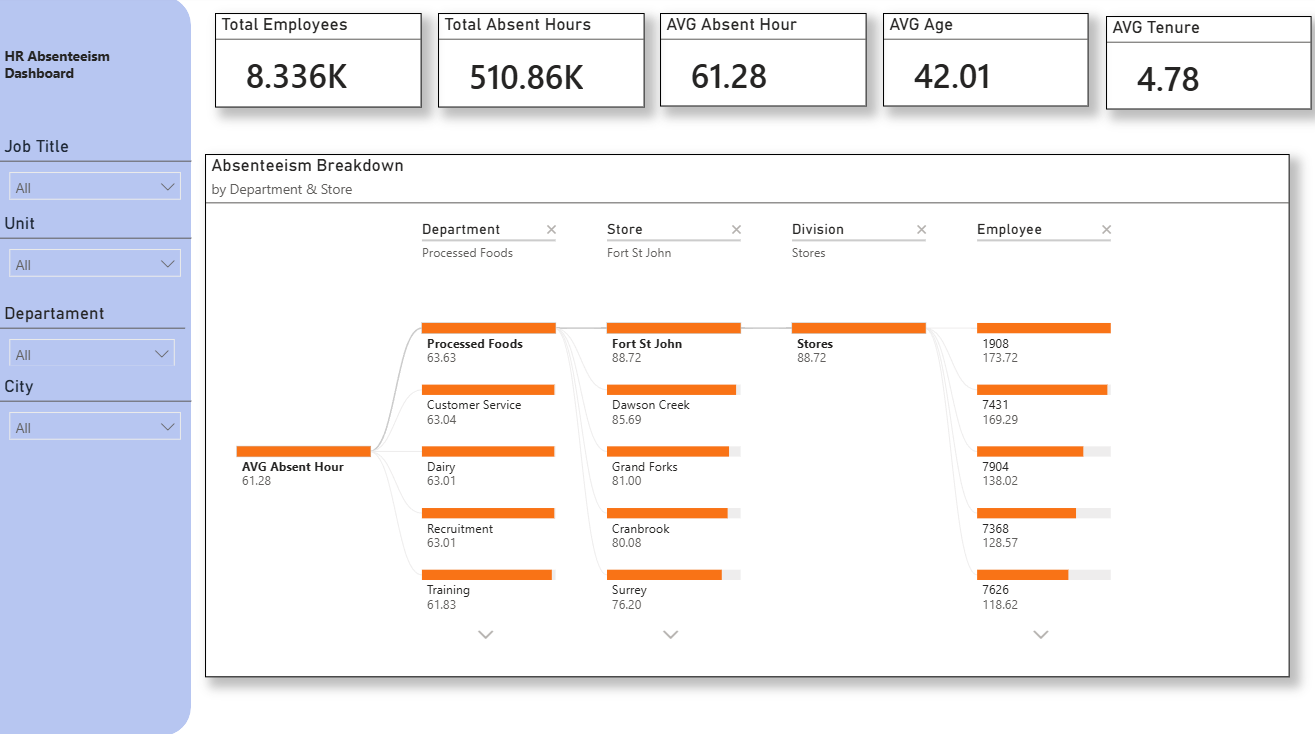

Layout of this report page (visuals, bound fields, positions):
{"tool":"powerbi","page":{"name":"Absenteeism Analysis","canvas":[1280,720],"ordinal":1},"visuals":[{"type":"shape","box":[0,0,186.7,719.8],"z":0},{"type":"cardVisual","title":"Total Employees","fields":{"Data":["MFGEmployees4.Total Employees"]},"box":[209.8,16.8,200.6,91.9],"z":1000},{"type":"cardVisual","title":"Total Absent Hours","fields":{"Data":["MFGEmployees4.Total Absent Hour"]},"box":[426.6,16.8,200.6,92],"z":2000},{"type":"cardVisual","title":"AVG Absent Hour","fields":{"Data":["MFGEmployees4.AVG Absent Hour"]},"box":[643.3,16.8,200.6,91],"z":3000},{"type":"cardVisual","title":"AVG  Age","fields":{"Data":["MFGEmployees4.AVG AGE"]},"box":[860.1,16.8,200,91],"z":4000},{"type":"cardVisual","title":"AVG Tenure","fields":{"Data":["MFGEmployees4.AVG lenght of service"]},"box":[1076.4,19.9,200,91],"z":5000},{"type":"slicer","title":"City","fields":{"Values":["MFGEmployees4.City"]},"box":[0,369.6,186.7,76.8],"z":6000},{"type":"slicer","title":"Departament","fields":{"Values":["MFGEmployees4.DepartmentName"]},"box":[0,298.6,180.9,61.3],"z":7000},{"type":"slicer","title":"Job Title","fields":{"Values":["MFGEmployees4.JobTitle"]},"box":[0,136.2,186.7,74.9],"z":8000},{"type":"slicer","title":"Unit","fields":{"Values":["MFGEmployees4.BusinessUnit"]},"box":[0,211.1,186.7,97.3],"z":9000},{"type":"decompositionTreeVisual","title":"Absenteeism Breakdown ","fields":{"ExplainBy":["MFGEmployees4.DepartmentName","MFGEmployees4.StoreLocation","MFGEmployees4.Division","MFGEmployees4.EmployeeNumber"],"Analyze":["MFGEmployees4.AVG Absent Hour"]},"box":[200.4,153.7,1055.3,508.7],"z":10000},{"type":"textbox","box":[0,43.8,180.9,52.5],"z":11000}]}

Visuals, with their boxes in screenshot pixels (x1, y1, x2, y2), scaled from the page's 1280x720 canvas onto the 1315x734 screenshot:
shape: left=0, top=0, right=192, bottom=733
"Total Employees" cardVisual: left=216, top=17, right=422, bottom=111
"Total Absent Hours" cardVisual: left=438, top=17, right=644, bottom=111
"AVG Absent Hour" cardVisual: left=661, top=17, right=867, bottom=110
"AVG  Age" cardVisual: left=884, top=17, right=1089, bottom=110
"AVG Tenure" cardVisual: left=1106, top=20, right=1311, bottom=113
"City" slicer: left=0, top=377, right=192, bottom=455
"Departament" slicer: left=0, top=304, right=186, bottom=367
"Job Title" slicer: left=0, top=139, right=192, bottom=215
"Unit" slicer: left=0, top=215, right=192, bottom=314
"Absenteeism Breakdown " decompositionTreeVisual: left=206, top=157, right=1290, bottom=675
textbox: left=0, top=45, right=186, bottom=98
